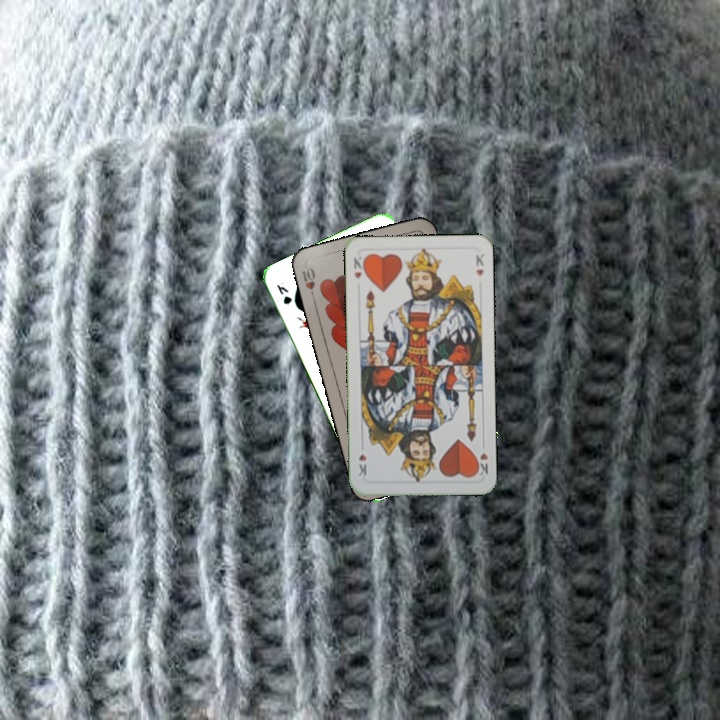GK: (272, 278, 295, 307)
H10: (297, 263, 318, 303)
HK: (472, 448, 491, 478), (350, 251, 368, 281)
